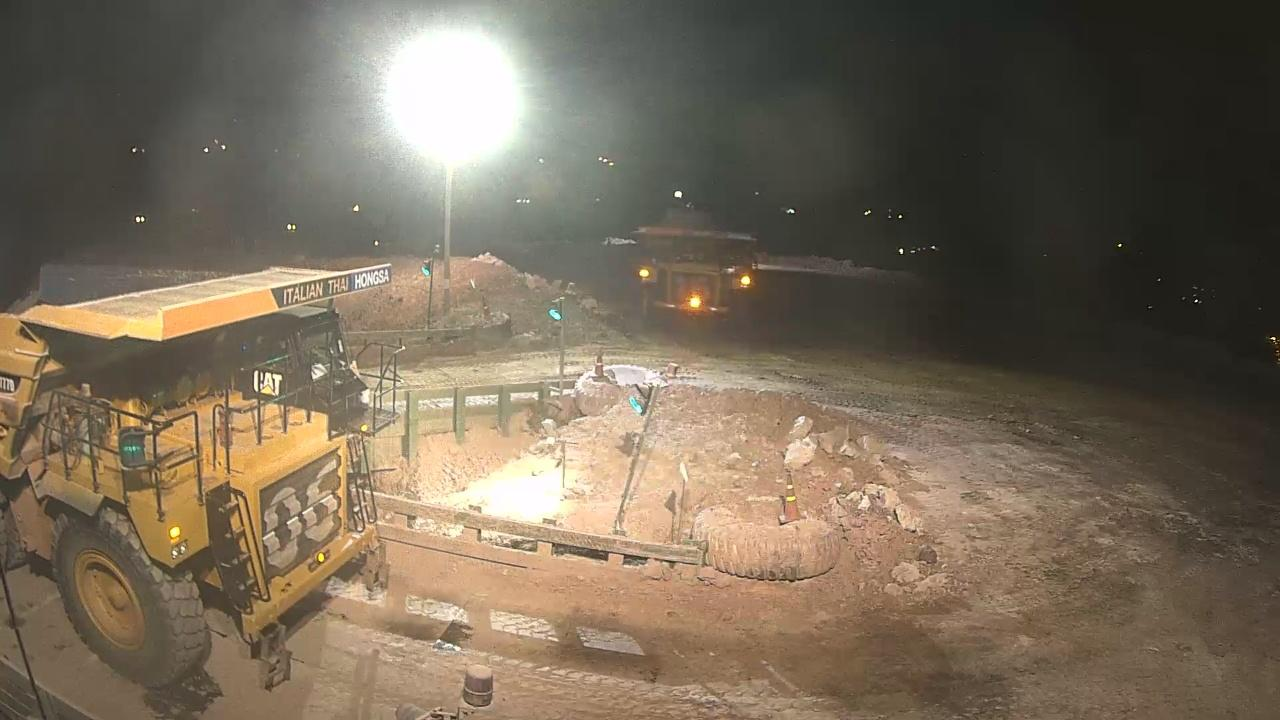front_number: (254, 457, 361, 579), (671, 271, 717, 310)
mining_truck: (1, 262, 403, 691), (624, 192, 767, 343)
